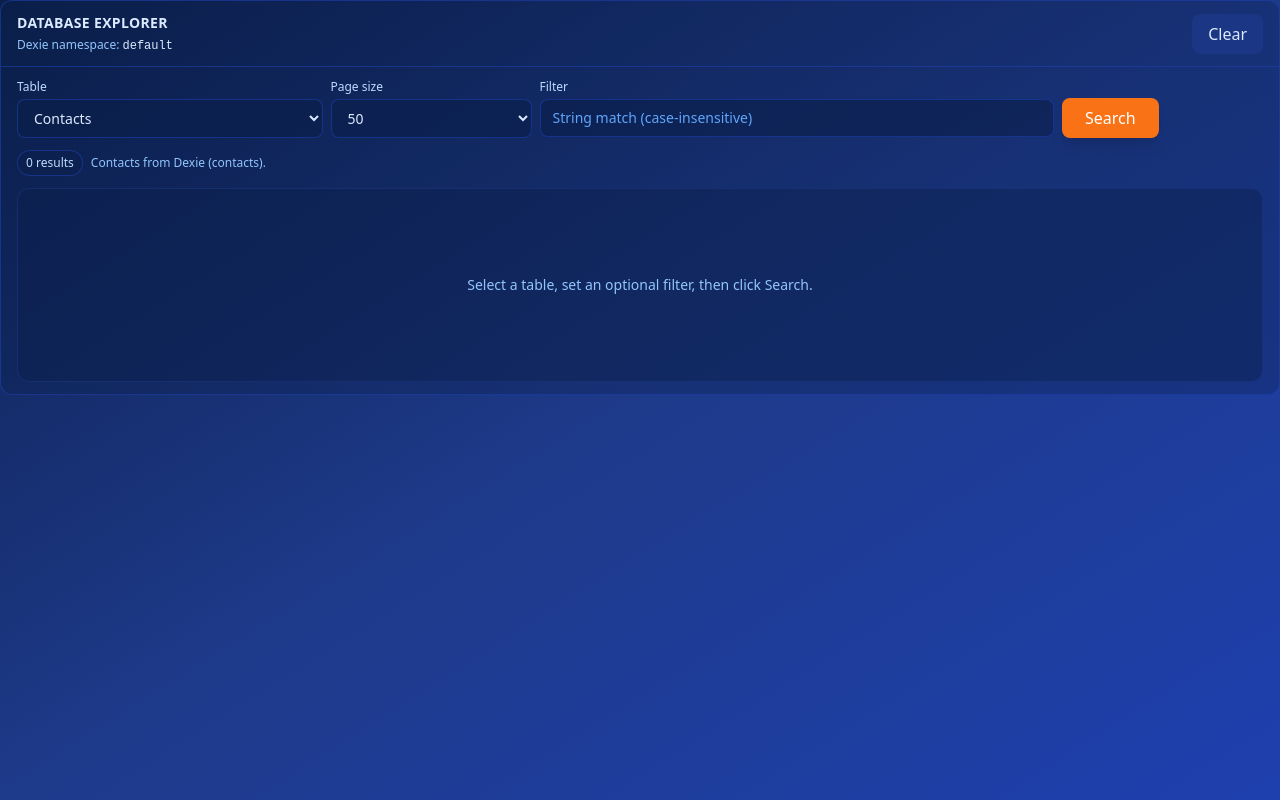
DatabaseExplorerPanel › searches messages globally when no conversationId is provided
The width and height of the screenshot is (1280, 800).
Select "Messages" in the dropdown labelled "Table" at (170, 118), box [17,99,322,138]
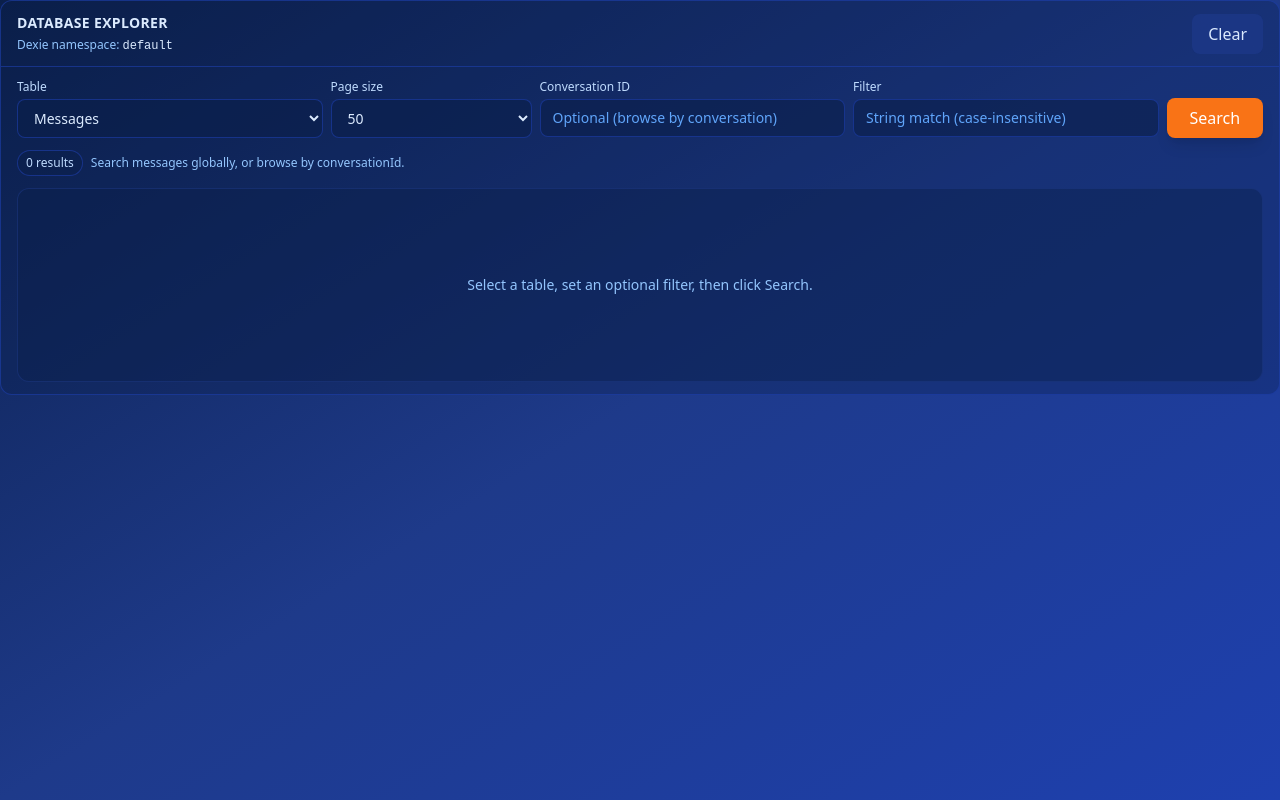
Type "hello" into the field labelled "Filter".
click(1006, 118); type("hello")  # box [853,99,1158,137]
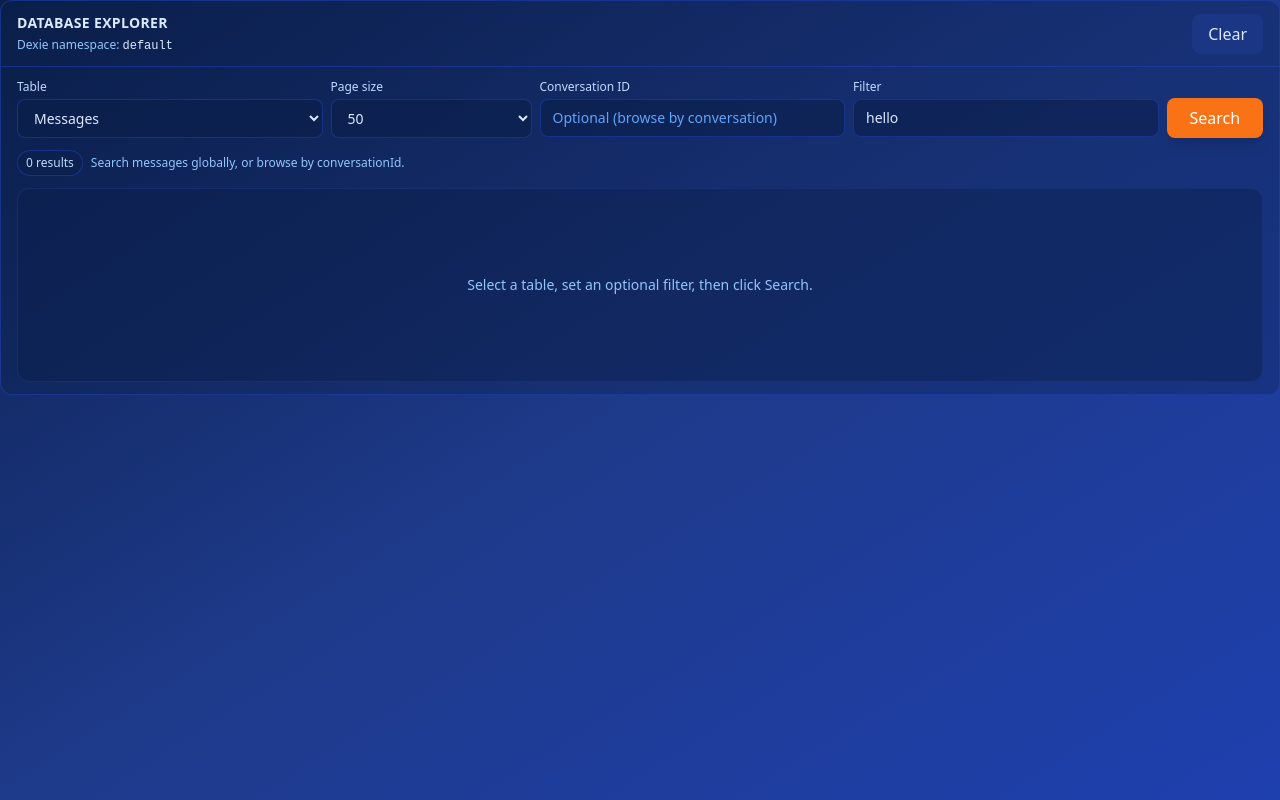
Click the button "Search".
click(1215, 118)  # box [1166,98,1263,138]
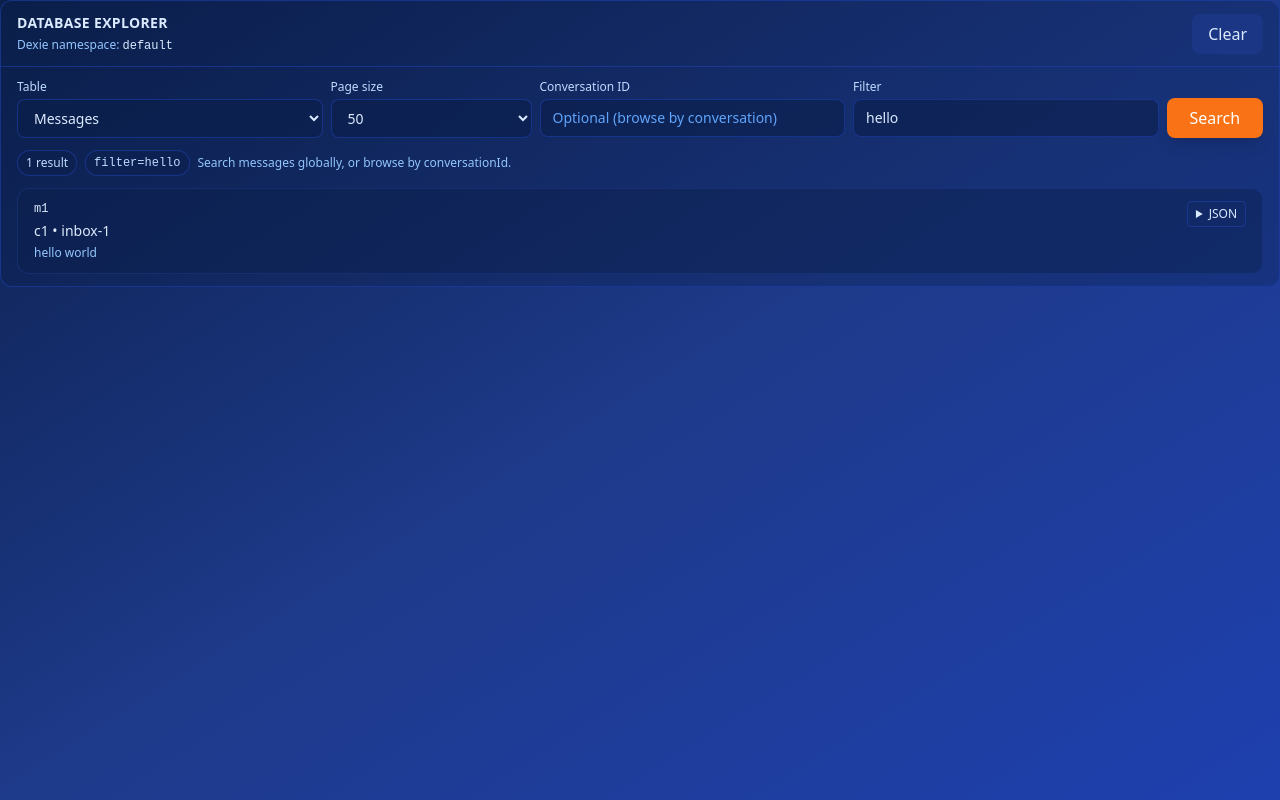
Expected: the text "m1" is shown, [34,202,48,216]
